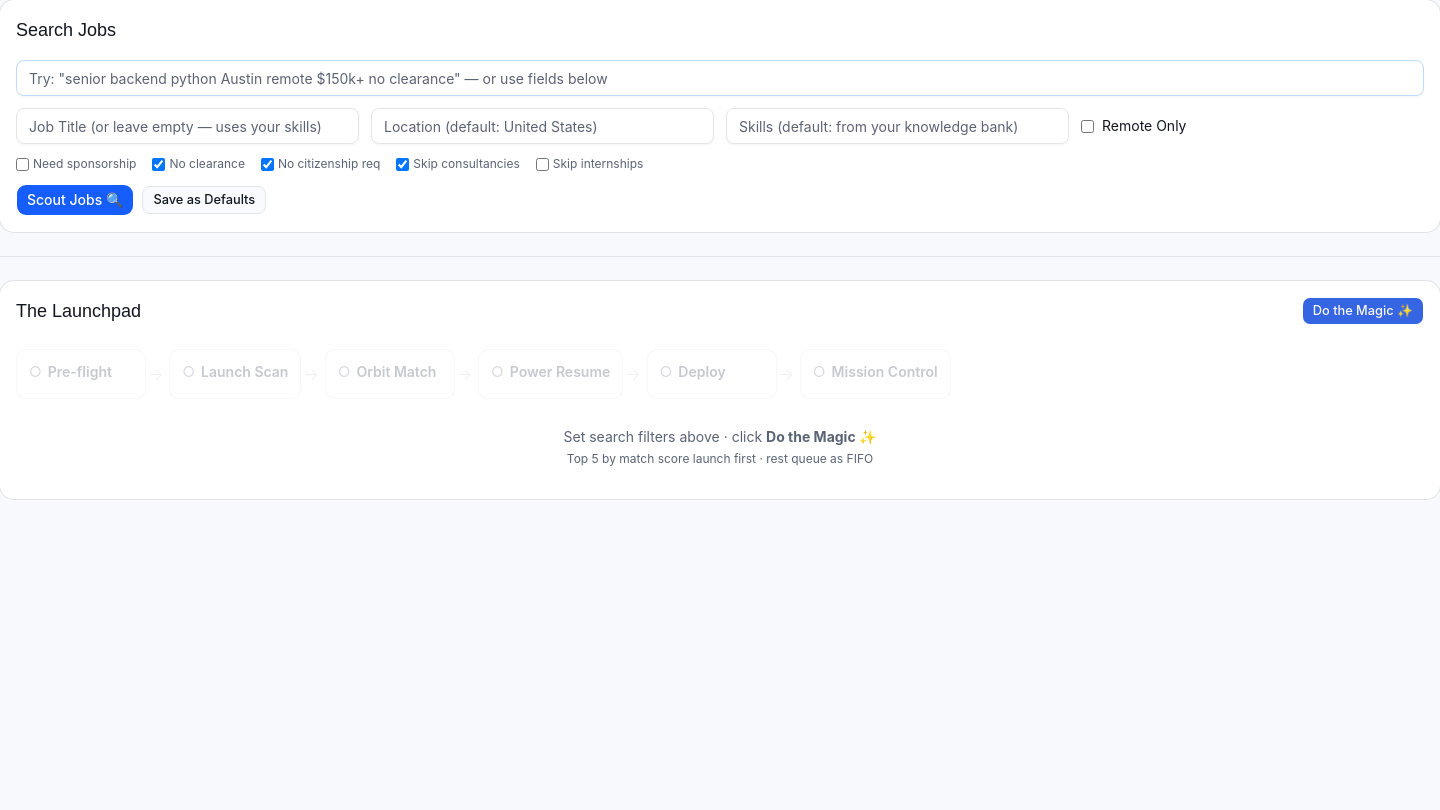
Scenario: JobSearchTab — opening detail and rating › Tailor Resume button opens PreviewModal directly
Click the button "Scout Jobs 🔍": (75, 200) x1=16 y1=184 x2=134 y2=216
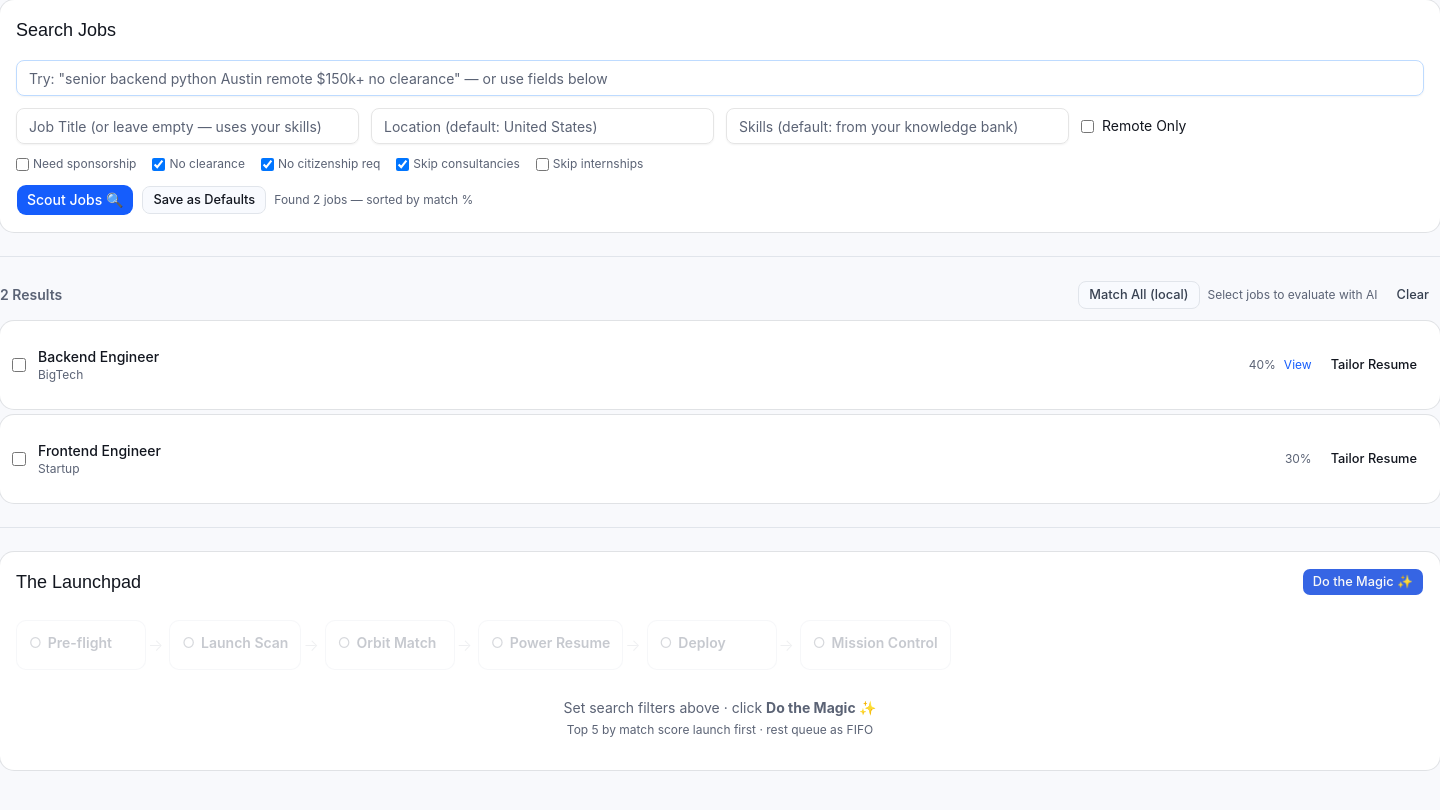
Check: the text "Backend Engineer" is shown, box x1=38 y1=347 x2=159 y2=367
Click the button "Tailor Resume" next to "View": (1374, 365) x1=1320 y1=351 x2=1428 y2=379
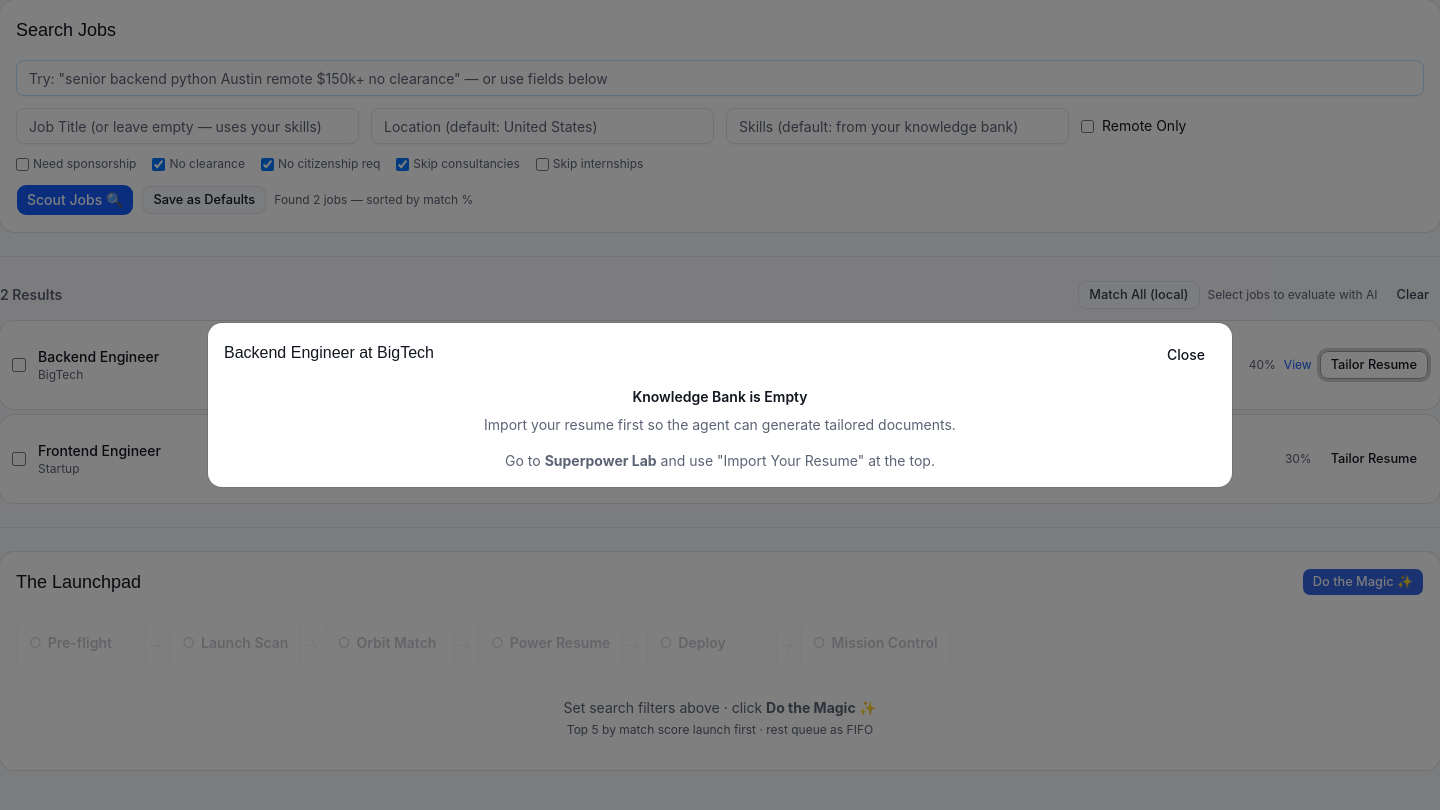
Check: the dialog named "Resume preview: Backend Engineer" is shown
